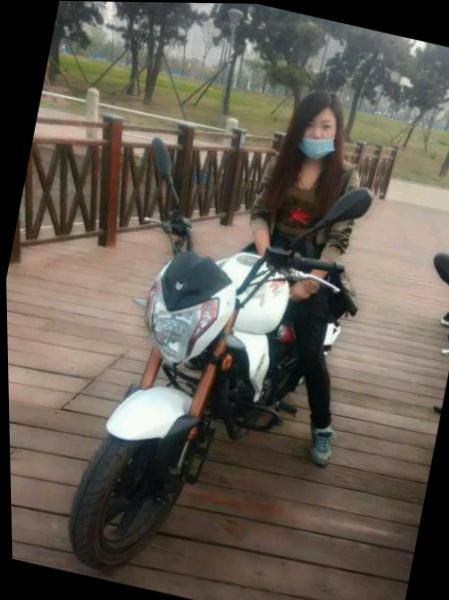WRONG: (291, 106, 349, 164)
